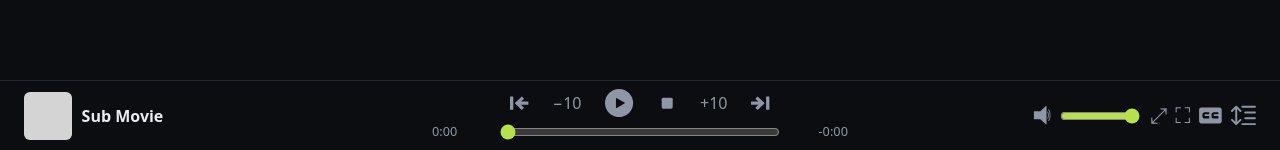
it: NowPlayingBar — captions menu › still shows the captions button with no tracks so the viewer can search online
Click the 1st button with test id "now-playing-captions" at [1211, 116], box [1198, 103, 1223, 128]
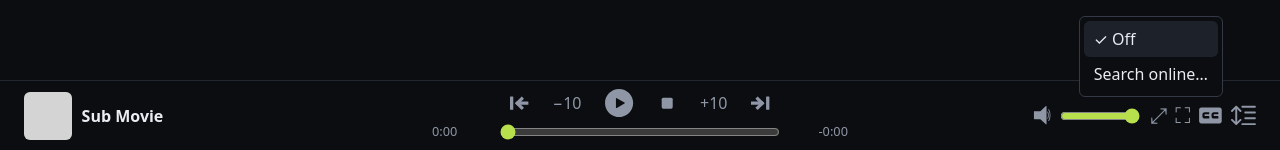
Result: the menu item with test id "captions-off" is shown at [1084, 21, 1218, 56]
Result: the menu item with test id "captions-search-online" is shown at [1084, 56, 1218, 92]
